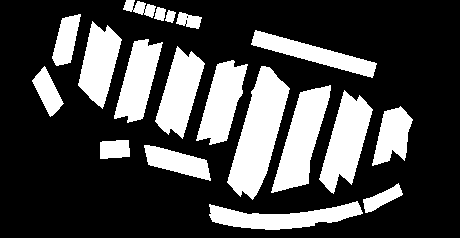parkingspot: (227, 66, 276, 196), (240, 74, 289, 199), (251, 30, 376, 77), (271, 88, 317, 192), (286, 85, 330, 188), (209, 201, 362, 229), (319, 90, 358, 193), (337, 95, 372, 184), (155, 46, 190, 134), (169, 51, 204, 138), (209, 64, 247, 144), (196, 60, 234, 140), (127, 42, 162, 122), (114, 39, 148, 118), (89, 25, 121, 108), (144, 145, 210, 180), (78, 21, 106, 97), (372, 107, 401, 165), (32, 66, 63, 116), (52, 14, 80, 65), (390, 106, 412, 160), (363, 183, 402, 212), (100, 140, 129, 158), (133, 1, 145, 14), (176, 12, 187, 25), (154, 7, 165, 20), (144, 4, 155, 17), (123, 0, 134, 11), (165, 10, 175, 22), (192, 16, 201, 28), (186, 15, 195, 27)
